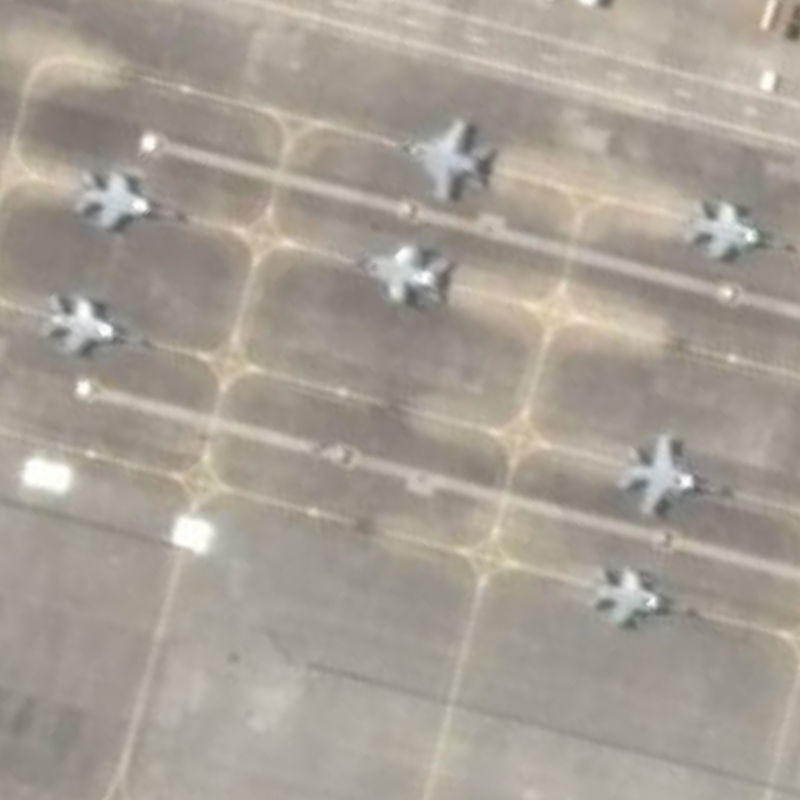A16: (610, 422, 744, 523), (376, 106, 503, 211), (325, 233, 465, 322), (69, 155, 192, 247), (577, 554, 706, 639), (671, 184, 799, 268), (31, 283, 156, 369)
